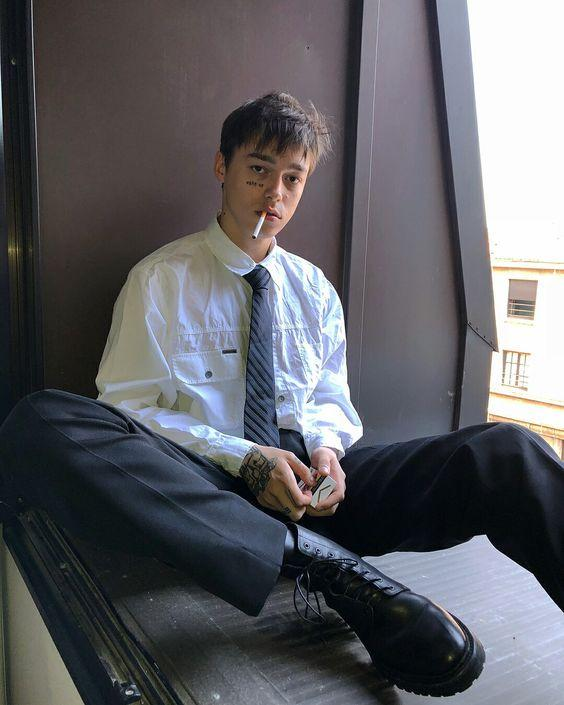cigarette: (251, 211, 268, 240)
